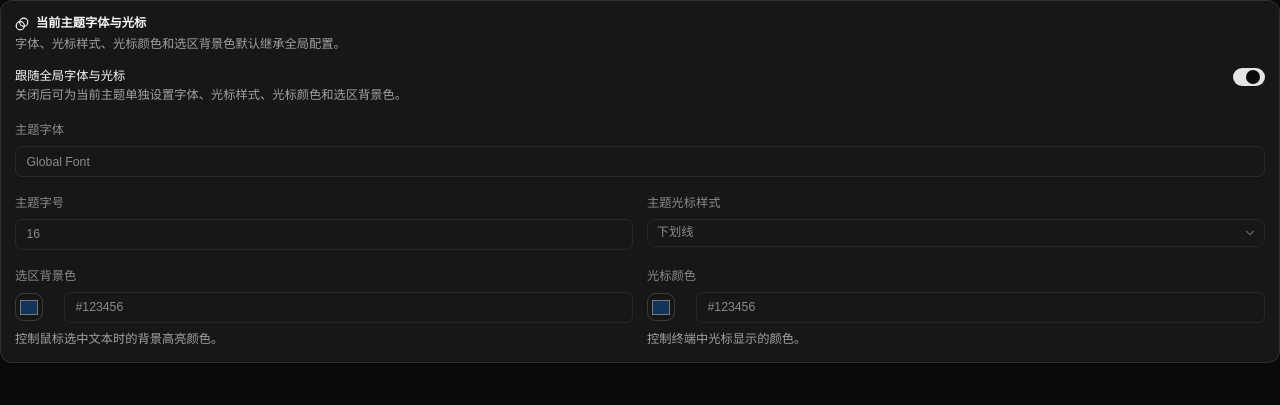
it: TerminalProfileStyleEditor › reports invalid fallback sizes while independent
Click the switch named "跟随全局字体与光标" at (1249, 77), box x1=1233 y1=68 x2=1265 y2=86
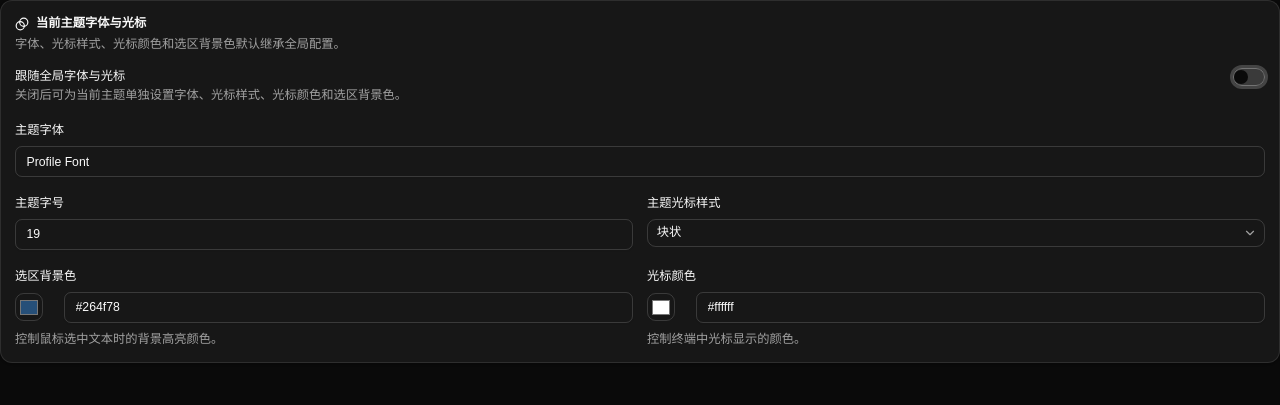
Clear the number field labelled "主题字号" at (324, 234), box x1=15 y1=219 x2=633 y2=250
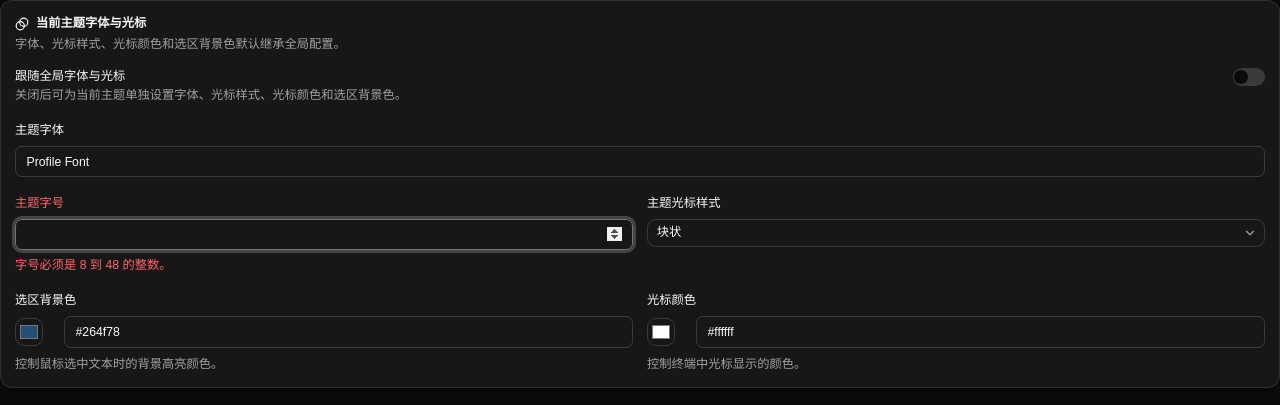
Expected: the message shows "字号必须是 8 到 48 的整数", x1=15 y1=258 x2=172 y2=272
